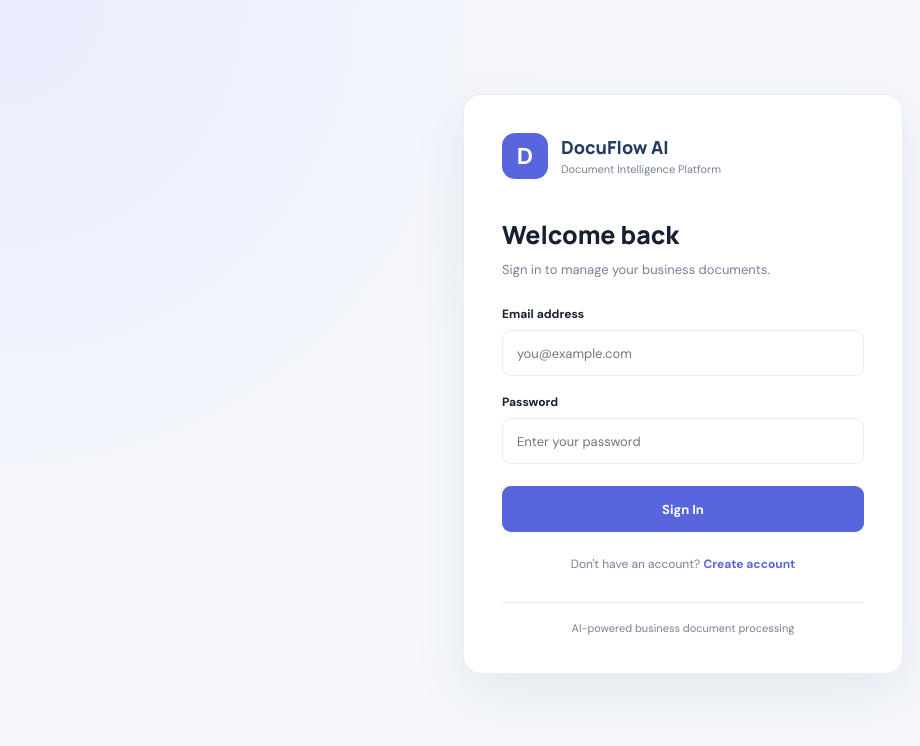
AuthScreen › switches to registration mode
Click the button "Create account": point(749, 564) [703, 556, 795, 572]
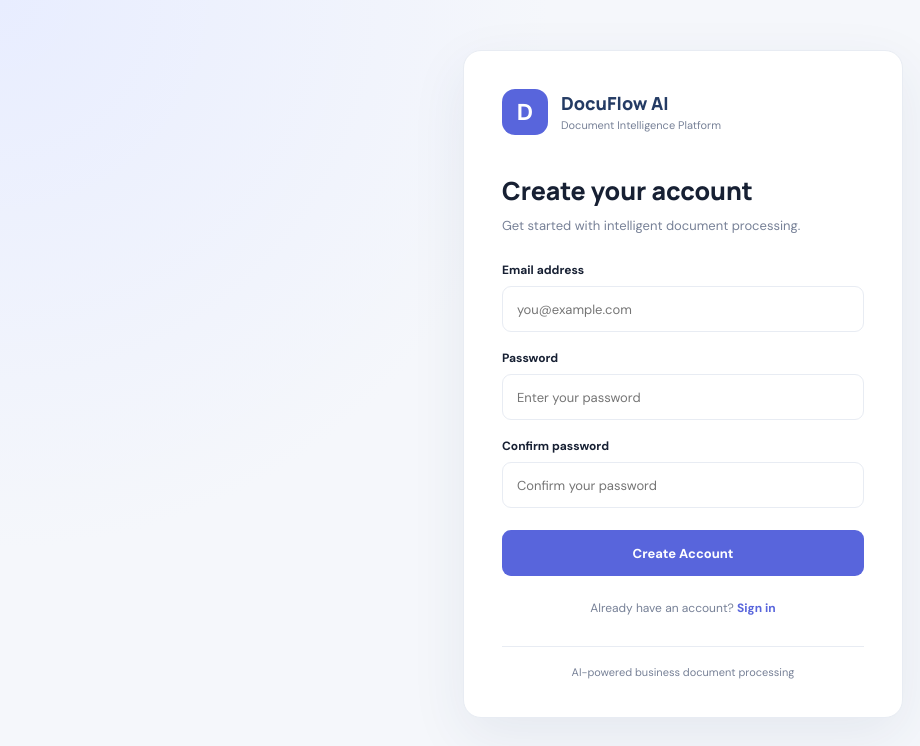
Check: the heading "Create your account" is shown, box [502, 173, 753, 208]
Check: the password field labelled "Confirm password" is shown, box [502, 462, 864, 508]
Check: the button "Create Account" is shown, box [502, 530, 864, 576]
